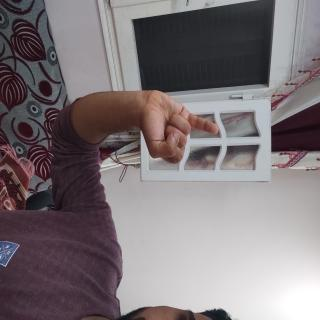MEEM: (60, 131, 124, 252)
